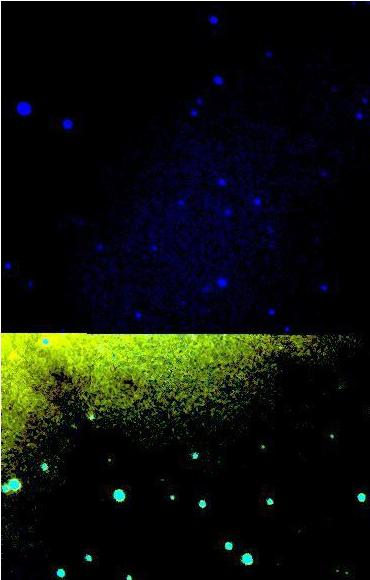star: (93, 447, 123, 477)
